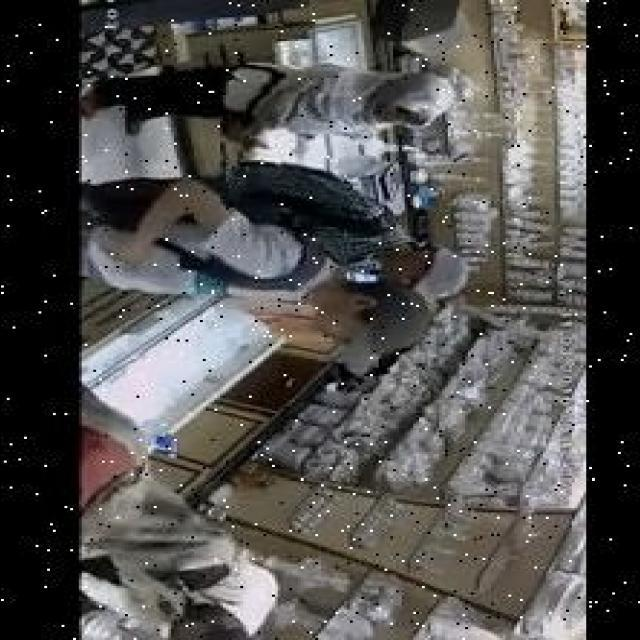Shoplifting: (80, 54, 488, 384)
